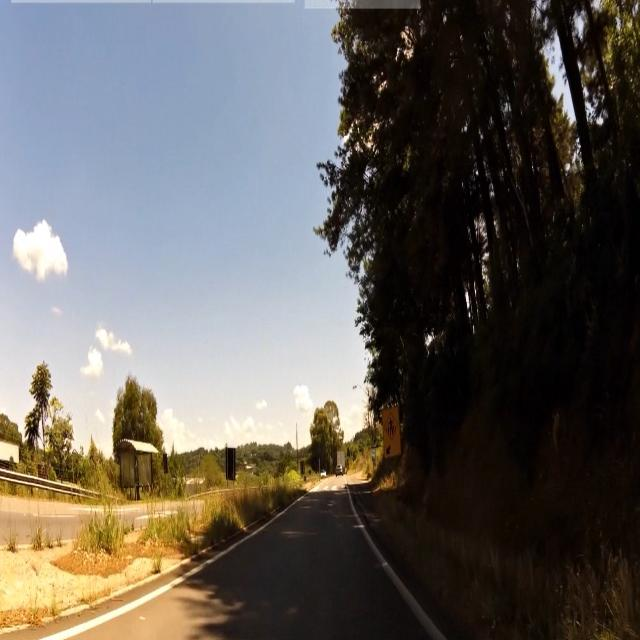A-32b: (384, 413, 399, 440)
